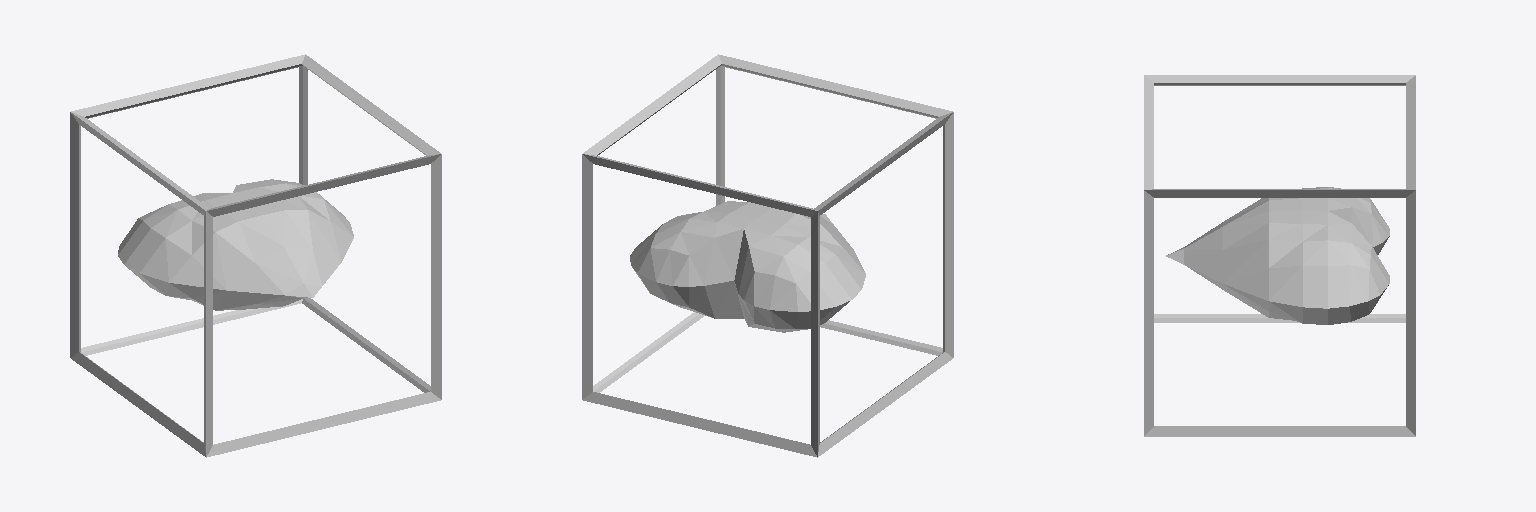
Rendered from Herzform_Trigger.obj.
3 renders of one model, left to right at view 1: azimuth 30°, elevation 25°; view 2: azimuth 150°, elevation 25°; view 3: azimuth 270°, elevation 25°, orthographic.
Visible parts, largest first — view 1: Herzform_Trigger_Cube_Cube.022; view 2: Herzform_Trigger_Cube_Cube.022; view 3: Herzform_Trigger_Cube_Cube.022.
Part boxes in pixels (x1,y1,x2,y2): Herzform_Trigger_Cube_Cube.022: (70, 54, 441, 457); Herzform_Trigger_Cube_Cube.022: (582, 54, 953, 457); Herzform_Trigger_Cube_Cube.022: (1144, 75, 1415, 436).
Size of the model in its own units: 1.03 by 1.03 by 1.03.